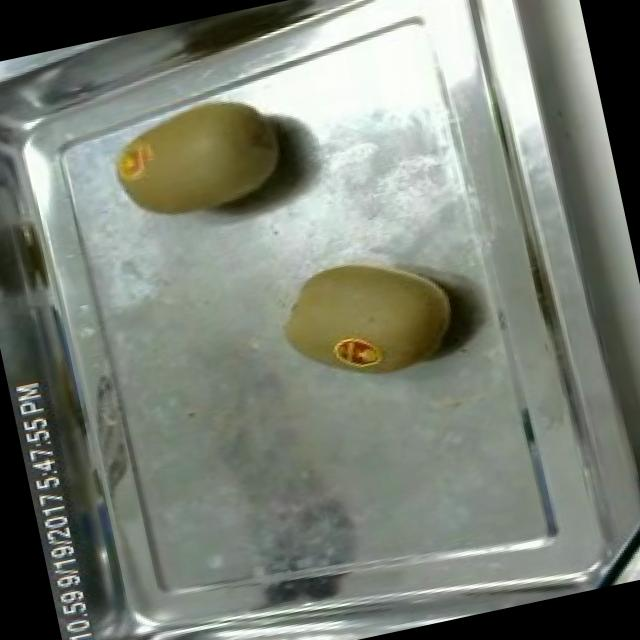Fruit: (87, 67, 308, 245), (264, 233, 468, 400)
